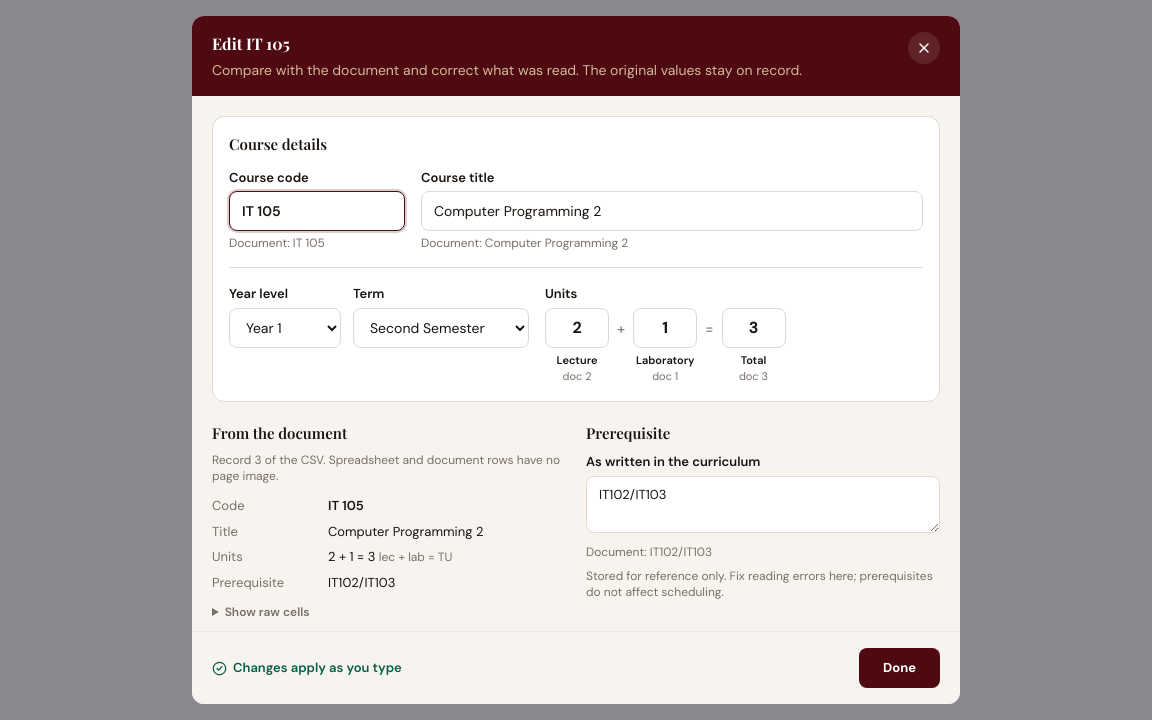
edit course modal › recalculates the total from lecture and laboratory, and still reports a typed mismatch
Replace the text in the number field named "Laboratory units" with "2" at (665, 328), box [633,308,697,348]
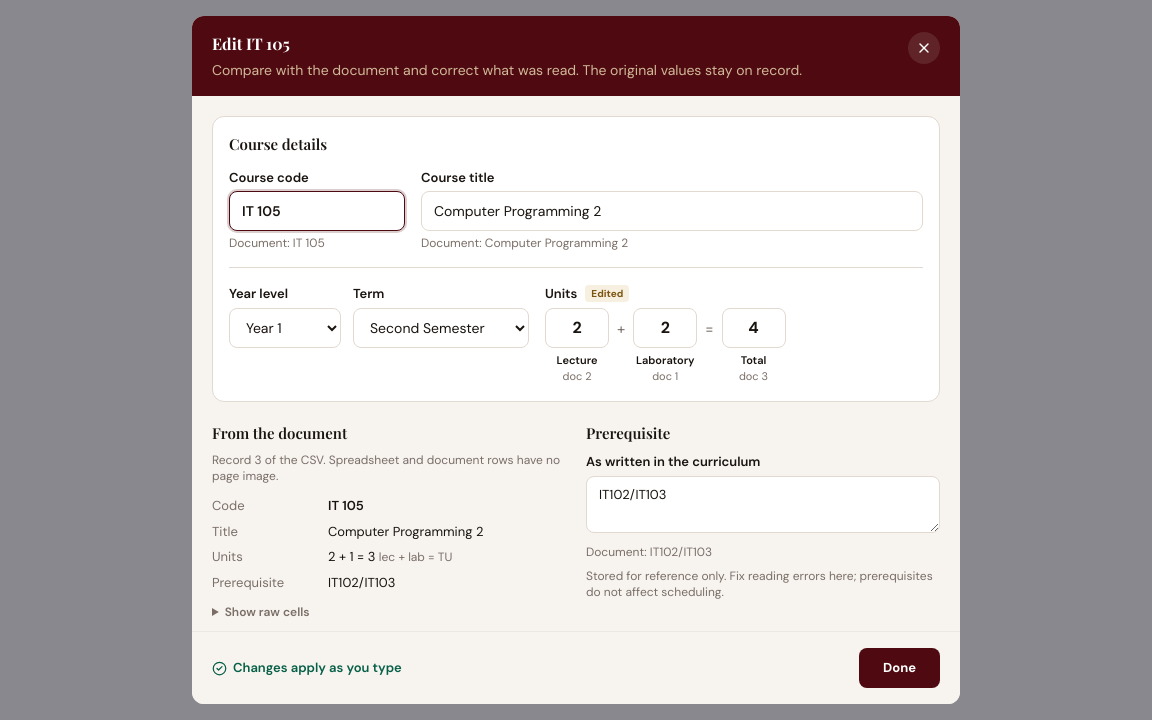
Expected: the text "doc 1" is shown, [652,368,678,384]
Expected: the text "Edited" is shown, [585,285,629,302]
Replace the text in the number field named "Total units" with "5" at (754, 328), box [722,308,786,348]
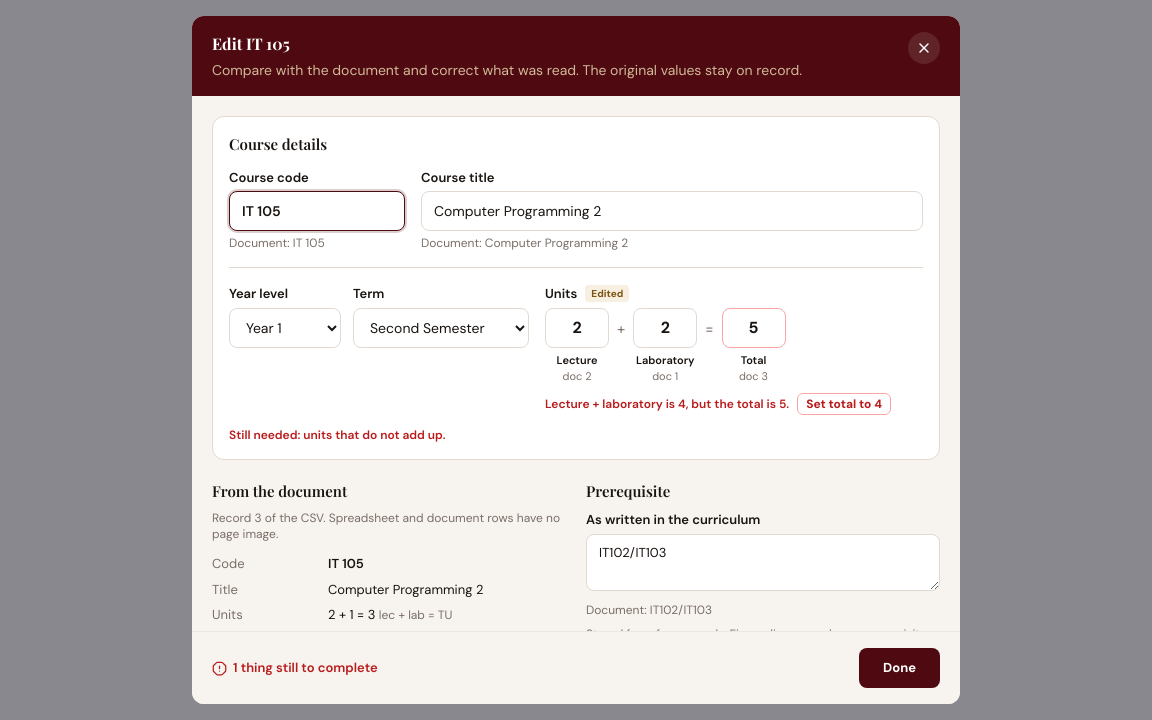
Expected: the text "Lecture + laboratory is 4, but the total is 5." is shown, [545,392,923,414]
Click the button "Set total to 4" at (844, 404), box [797,392,891,414]
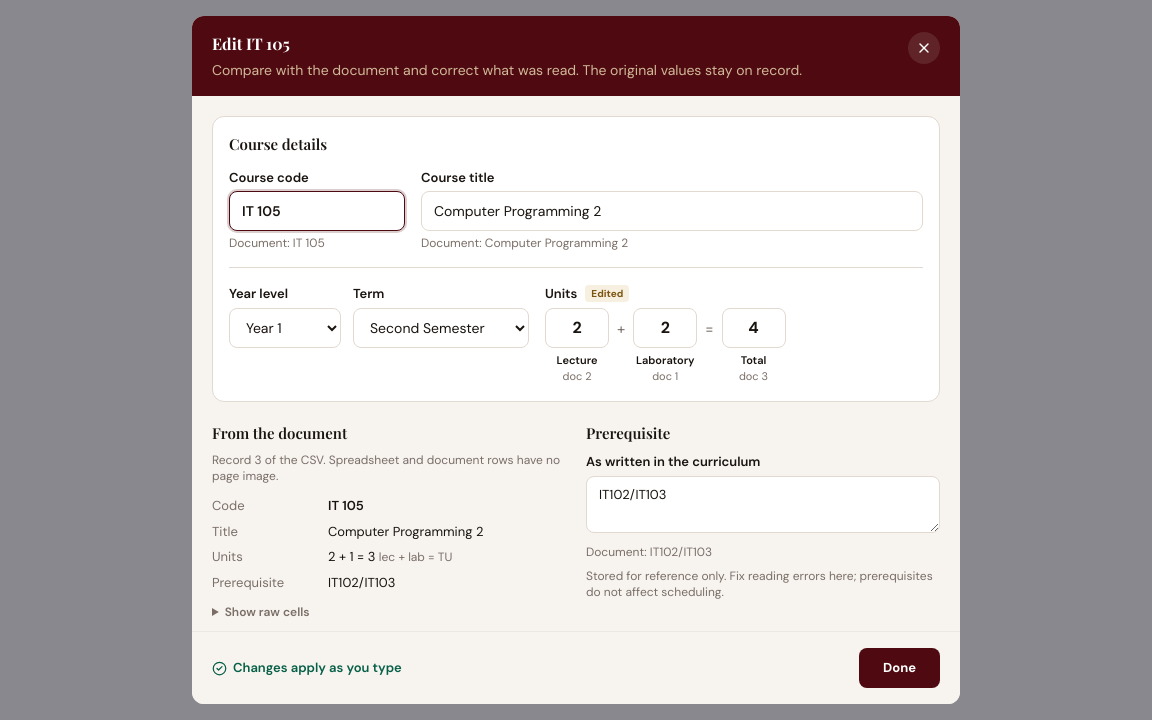
Clear the number field named "Lecture units" at (577, 328), box [545,308,609,348]
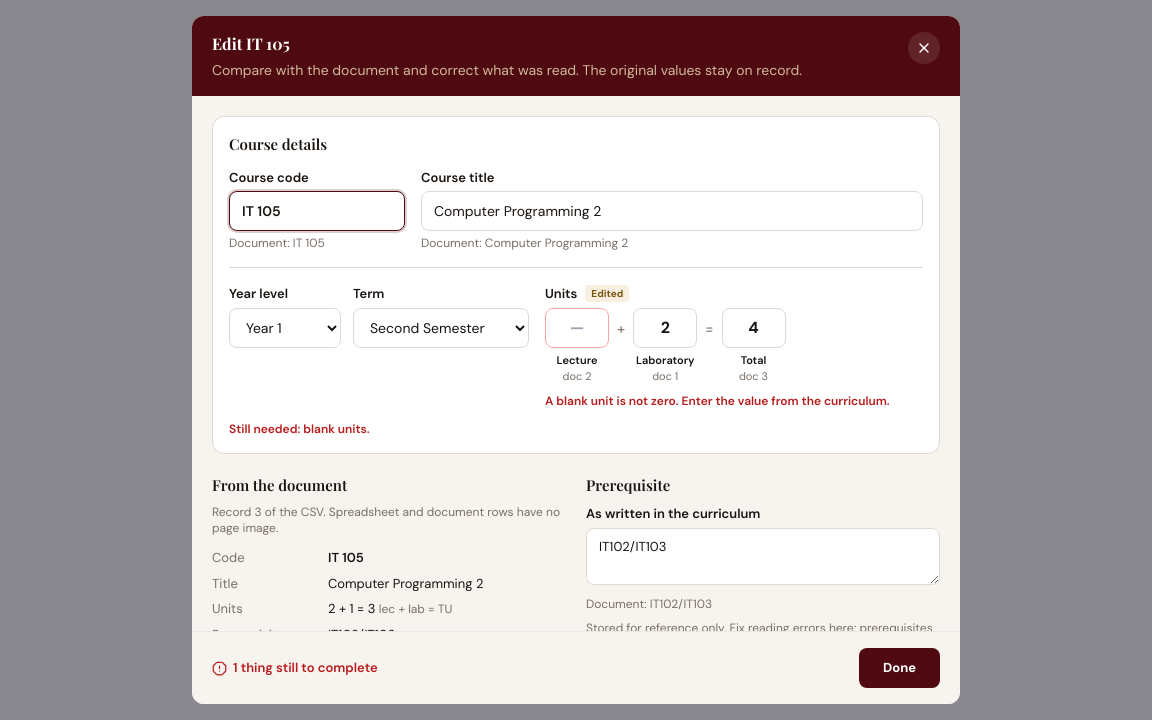
Expected: the text "A blank unit is not zero" is shown, [545,392,890,408]
Expected: the text "Still needed: blank units." is shown, [229,420,370,436]
